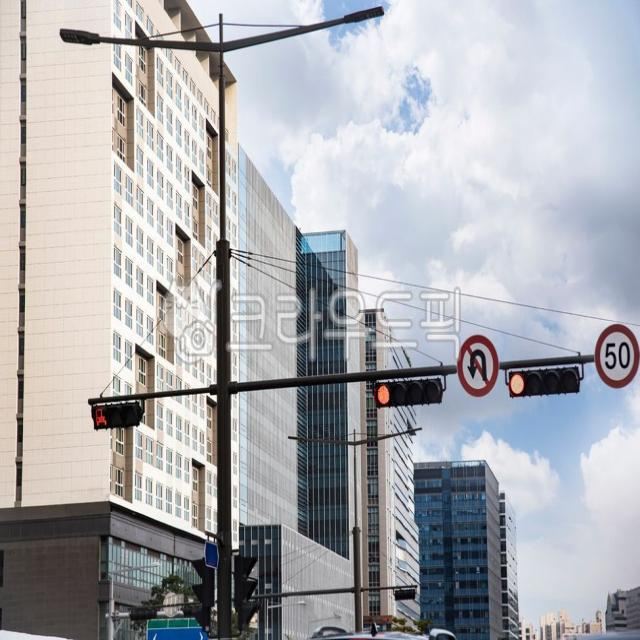red_light: (504, 369, 594, 412), (369, 376, 451, 411)
